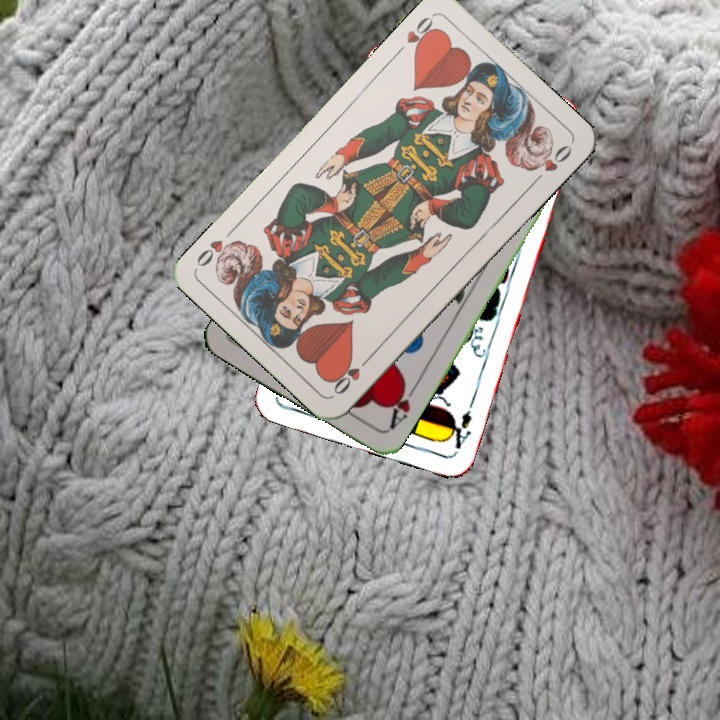EA: (443, 406, 475, 452)
HA: (384, 375, 420, 432)
HO: (391, 10, 441, 58), (329, 351, 375, 398)
